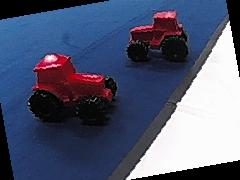Tracktor: (28, 52, 117, 125), (124, 8, 191, 62)
